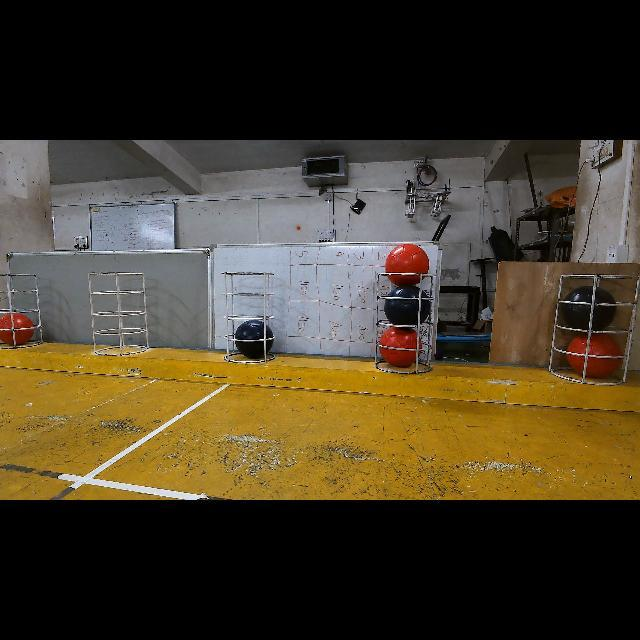P: (560, 286, 616, 330), (384, 284, 430, 325), (234, 320, 274, 360)
R: (565, 332, 622, 379), (385, 244, 430, 286), (382, 327, 421, 368), (0, 312, 34, 345)
S: (558, 277, 628, 381), (375, 274, 431, 374), (88, 270, 150, 356), (228, 264, 276, 370), (1, 269, 44, 347)
